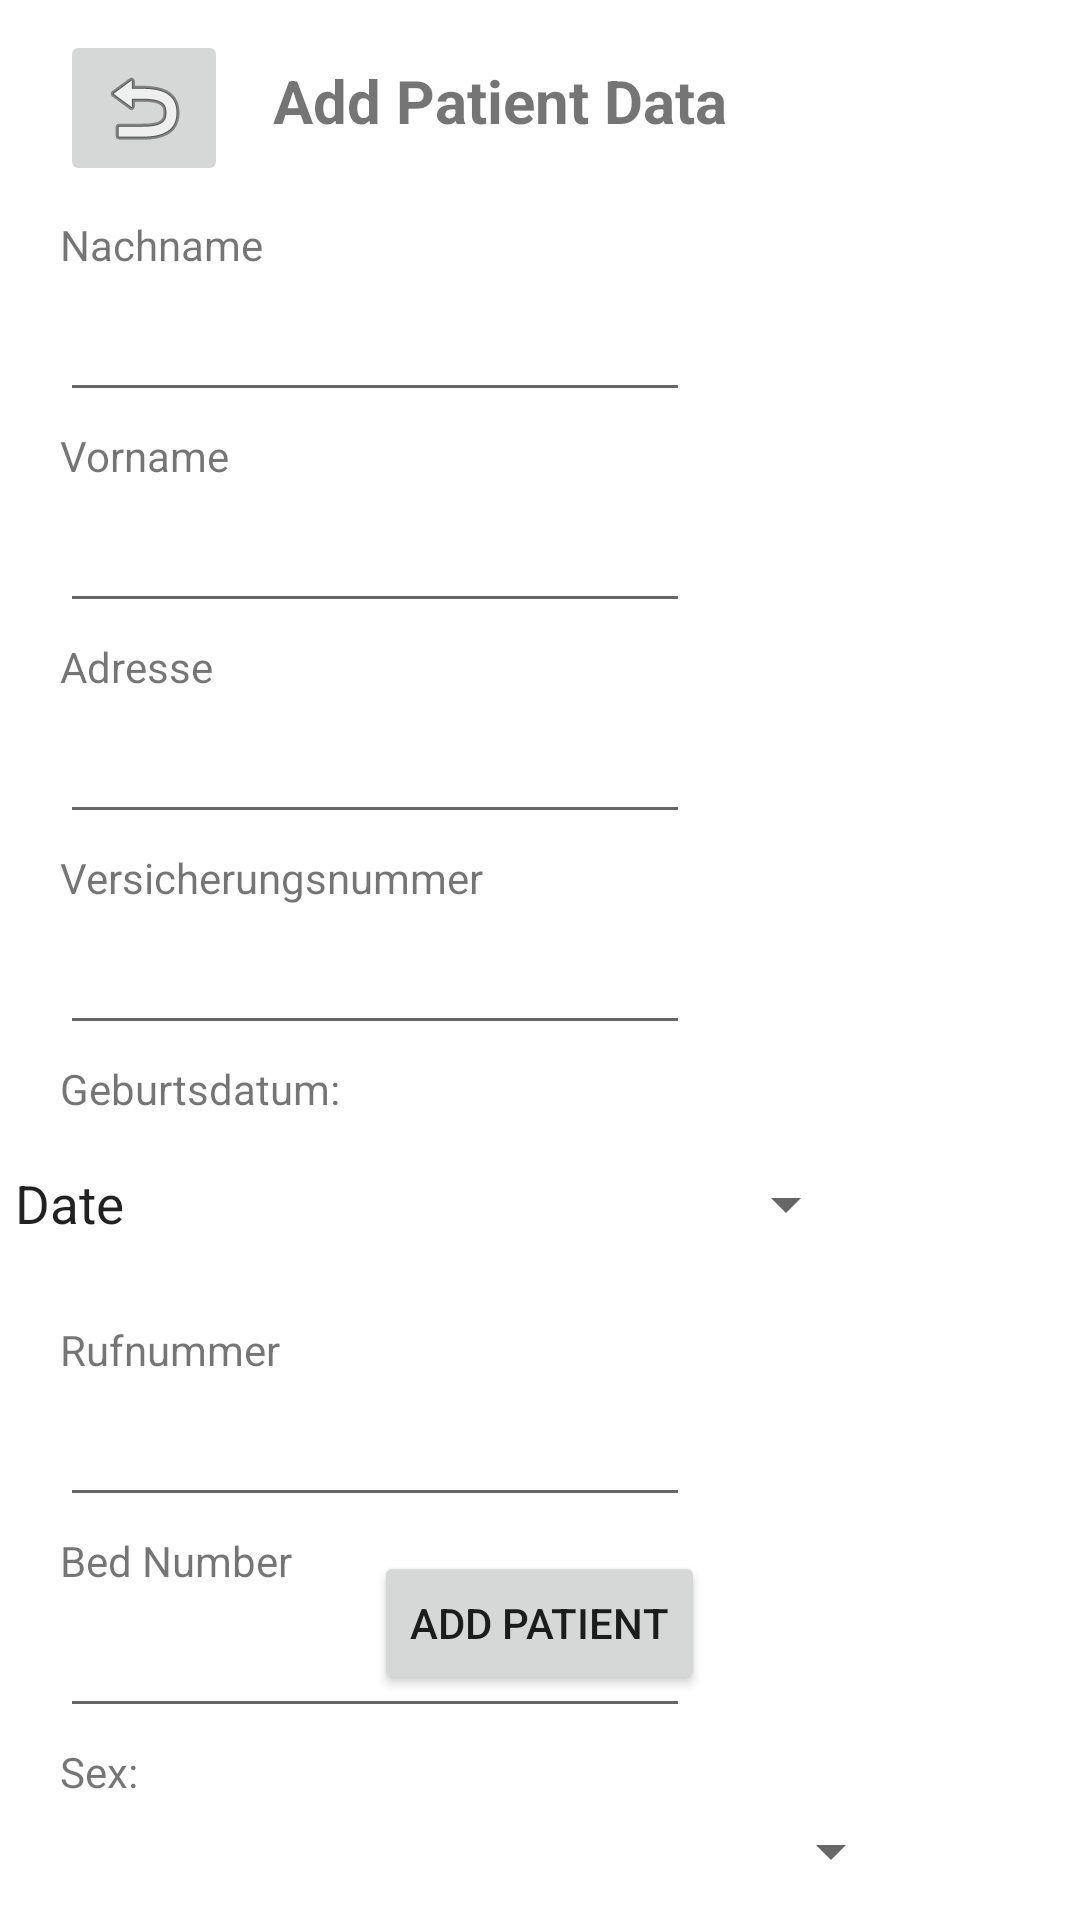

Icons on this 1080×1920 Android screen, each with the point to tap as point (x, y):
revert: point (144, 108)
